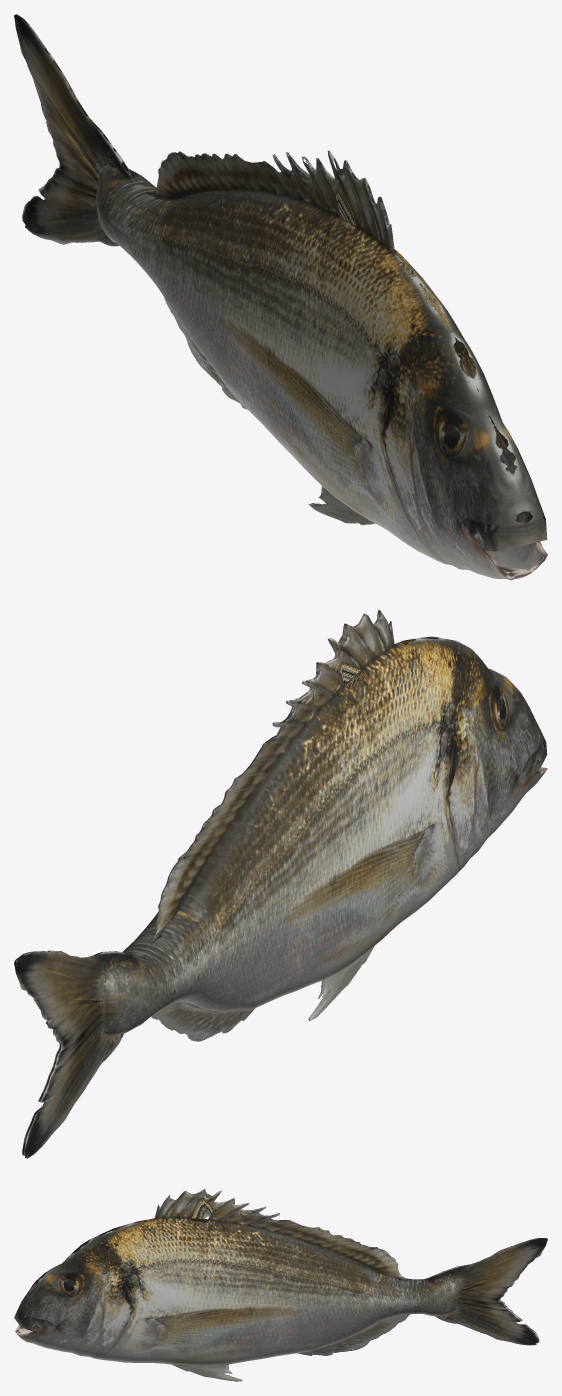
The model's file is dorade.fbx.
The picture shows the model from 3 angles, top to bottom: view 1: azimuth 30°, elevation 25°; view 2: azimuth 150°, elevation 25°; view 3: azimuth 270°, elevation 25°; orthographic projection. The views are drawn at different scales.
Parts seen in each view (by area): view 1: Classique; view 2: Classique; view 3: Classique.
Part boxes in pixels (left/top/right/bottom): Classique: left=14, top=14, right=547, bottom=580; Classique: left=14, top=610, right=547, bottom=1158; Classique: left=14, top=1189, right=547, bottom=1381.
Bounding box in the file's own units: 23.98 × 131 × 327.
